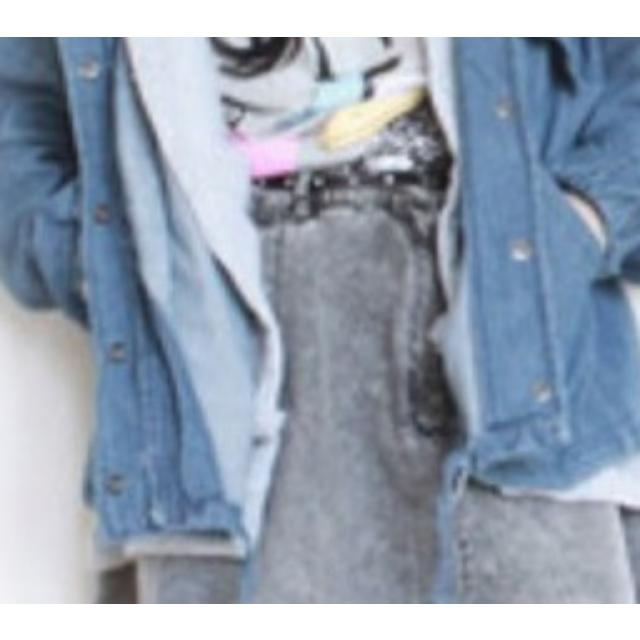denim: (65, 196, 640, 604)
